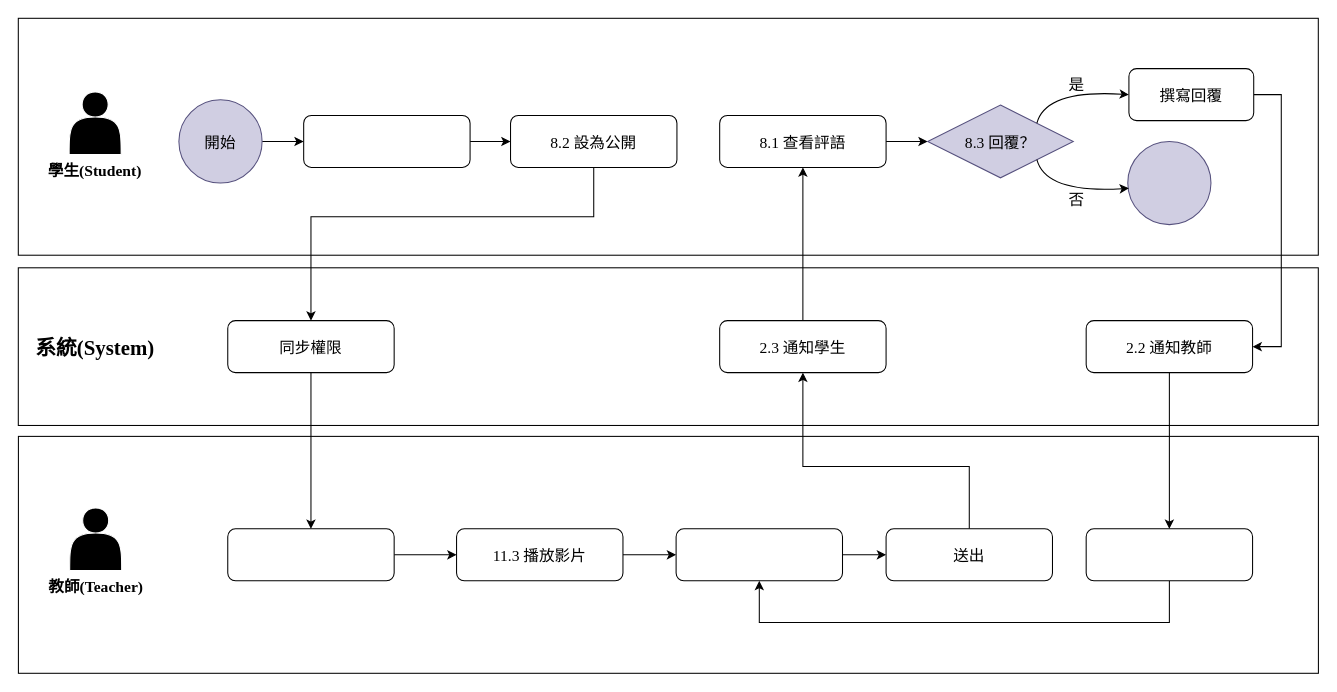
This 1337x692 diagram has some shape labels left out. The shapes that lost their labels are listed below. From the top down, each one's box as (x1, y1, x2, y2) in pixels, then its label:
(303, 114, 470, 167): 5.5 查看紀錄
(1127, 140, 1211, 225): 結束
(227, 528, 394, 581): 12.1 查看待評
(675, 528, 843, 581): 12.2 撰寫評語
(1085, 528, 1253, 581): 12.3 查看回覆
